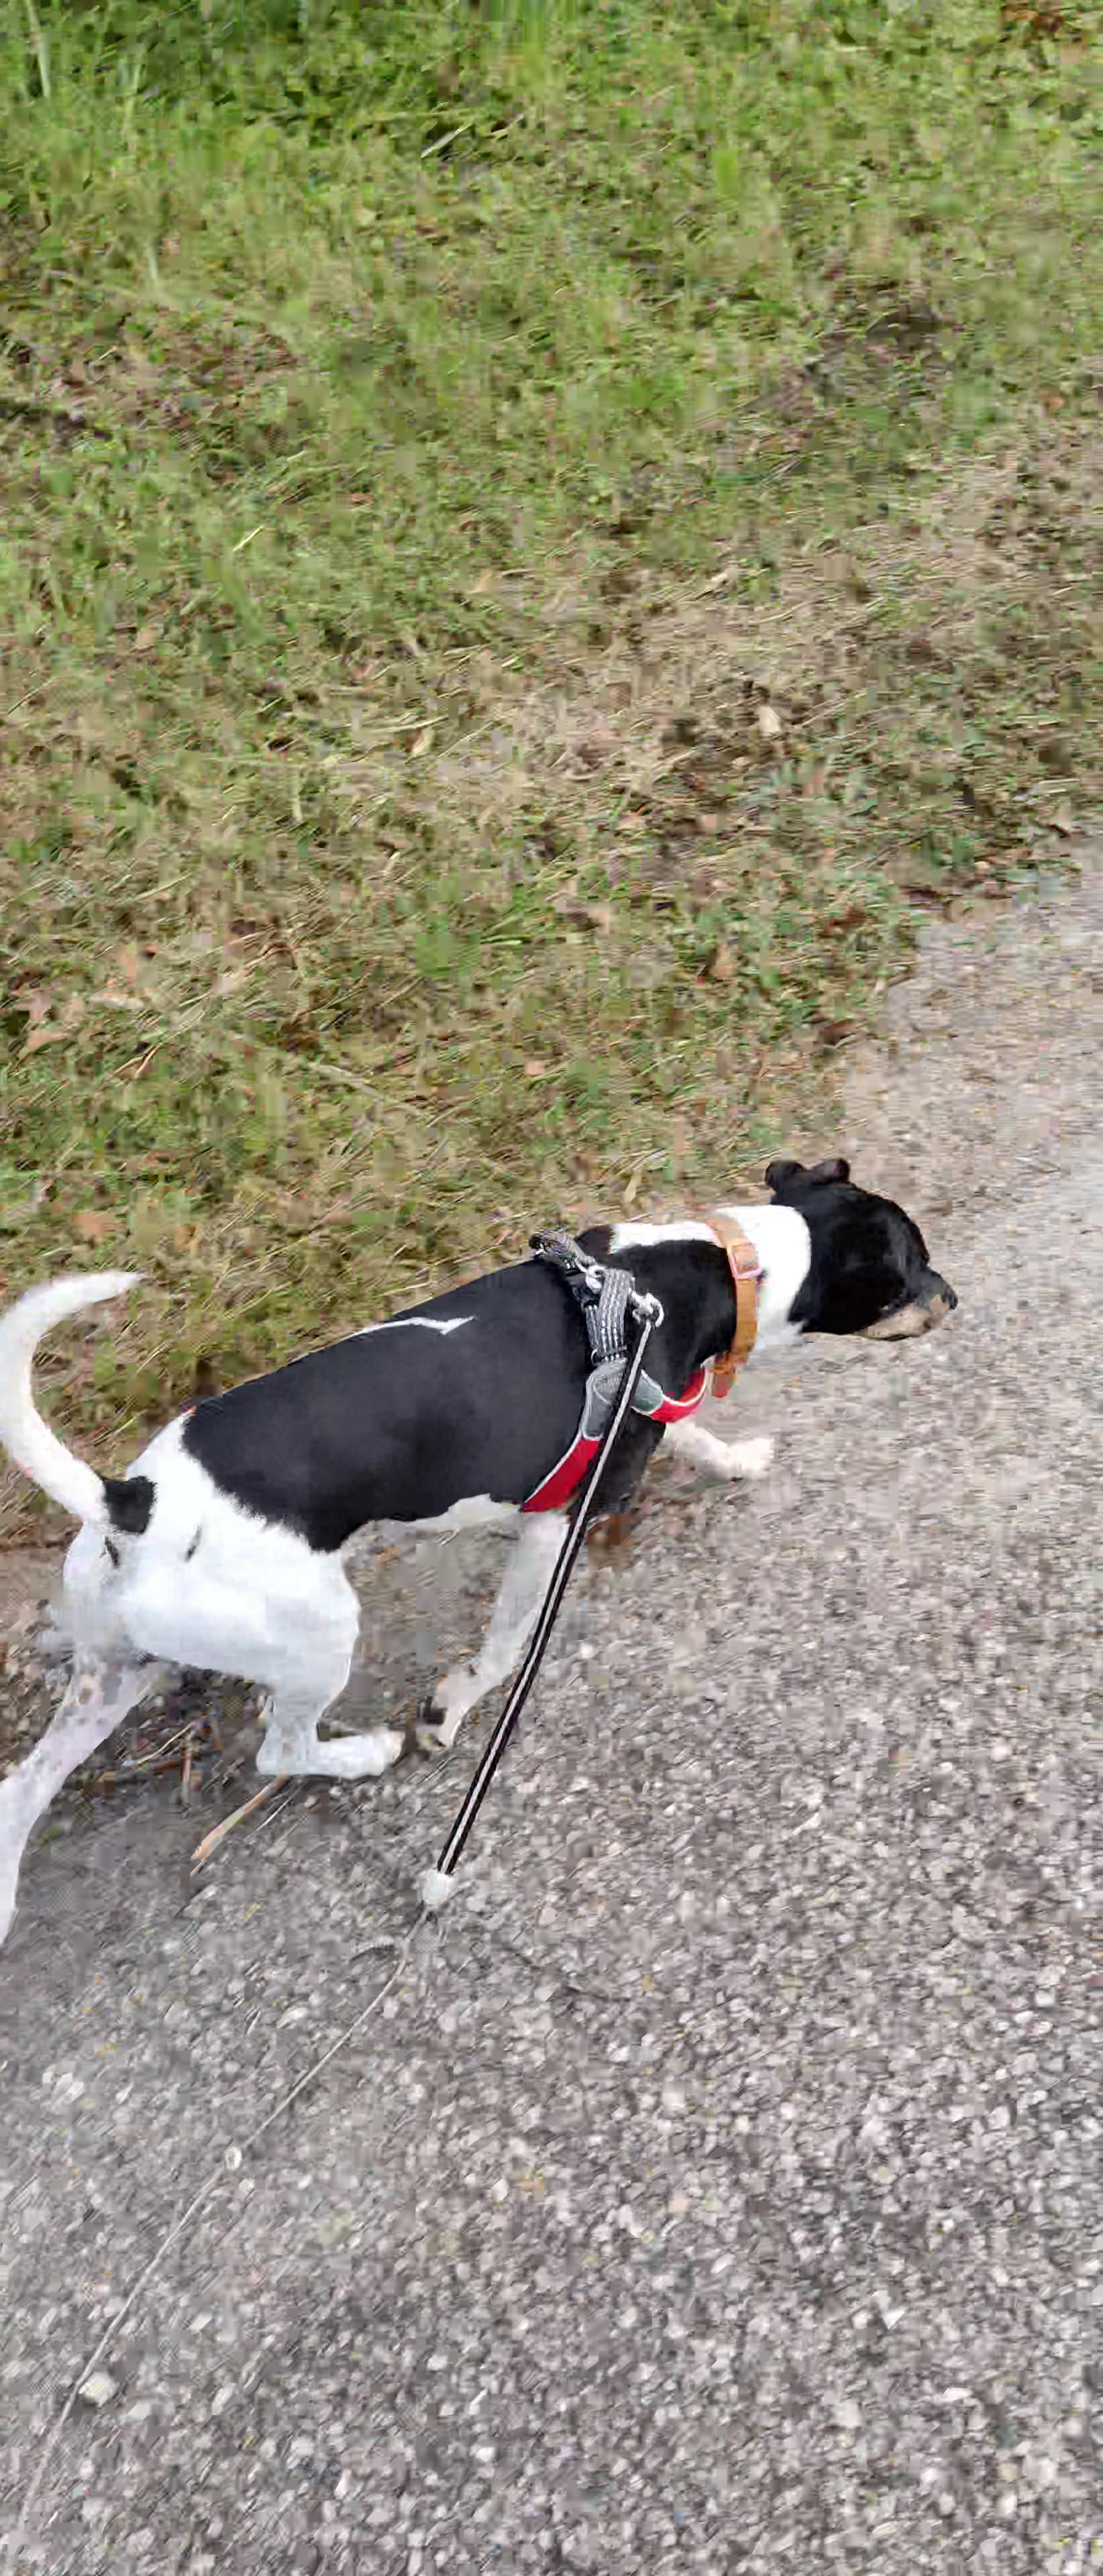Dog: (0, 1147, 983, 1965)
